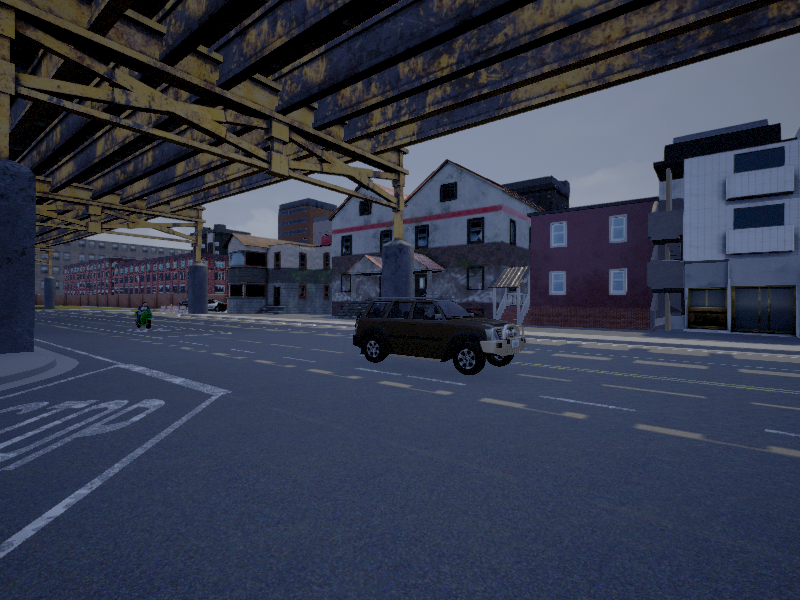benign: (353, 296, 526, 377)
